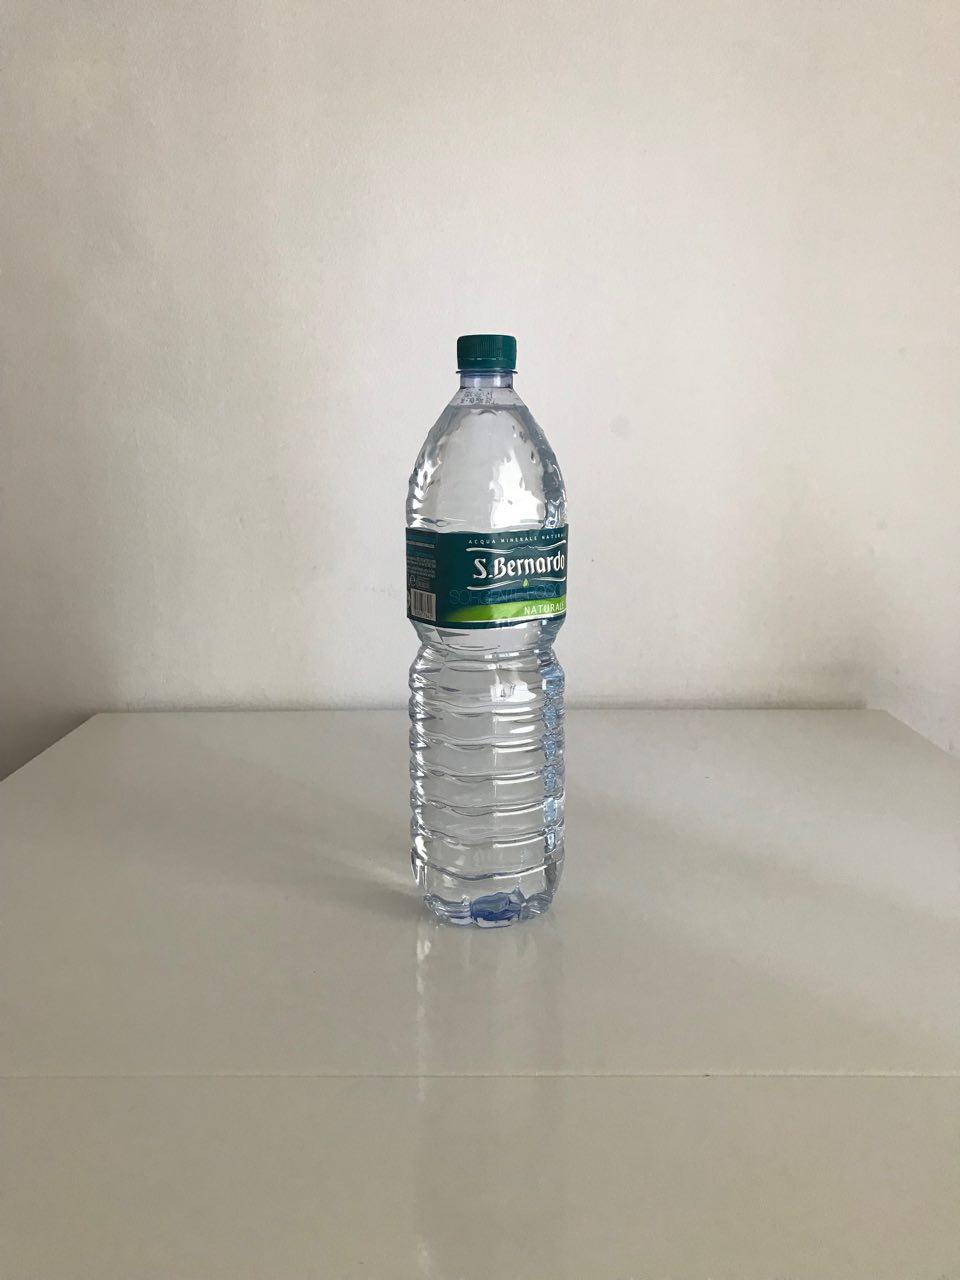san_bernardo: (403, 333, 571, 929)
